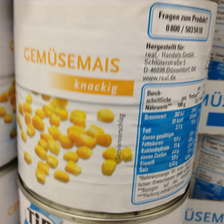corn: (13, 1, 218, 218)
